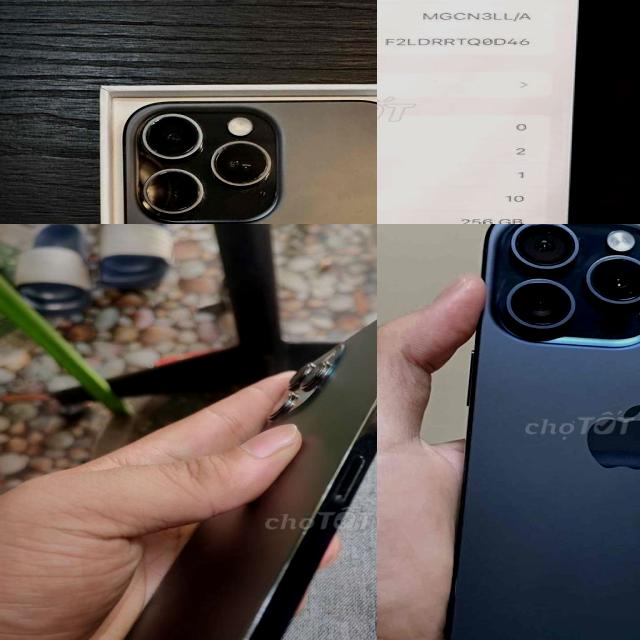gen_12_13: (92, 286, 377, 640), (377, 0, 606, 224)
gen_15: (396, 224, 640, 640), (105, 91, 377, 224)
